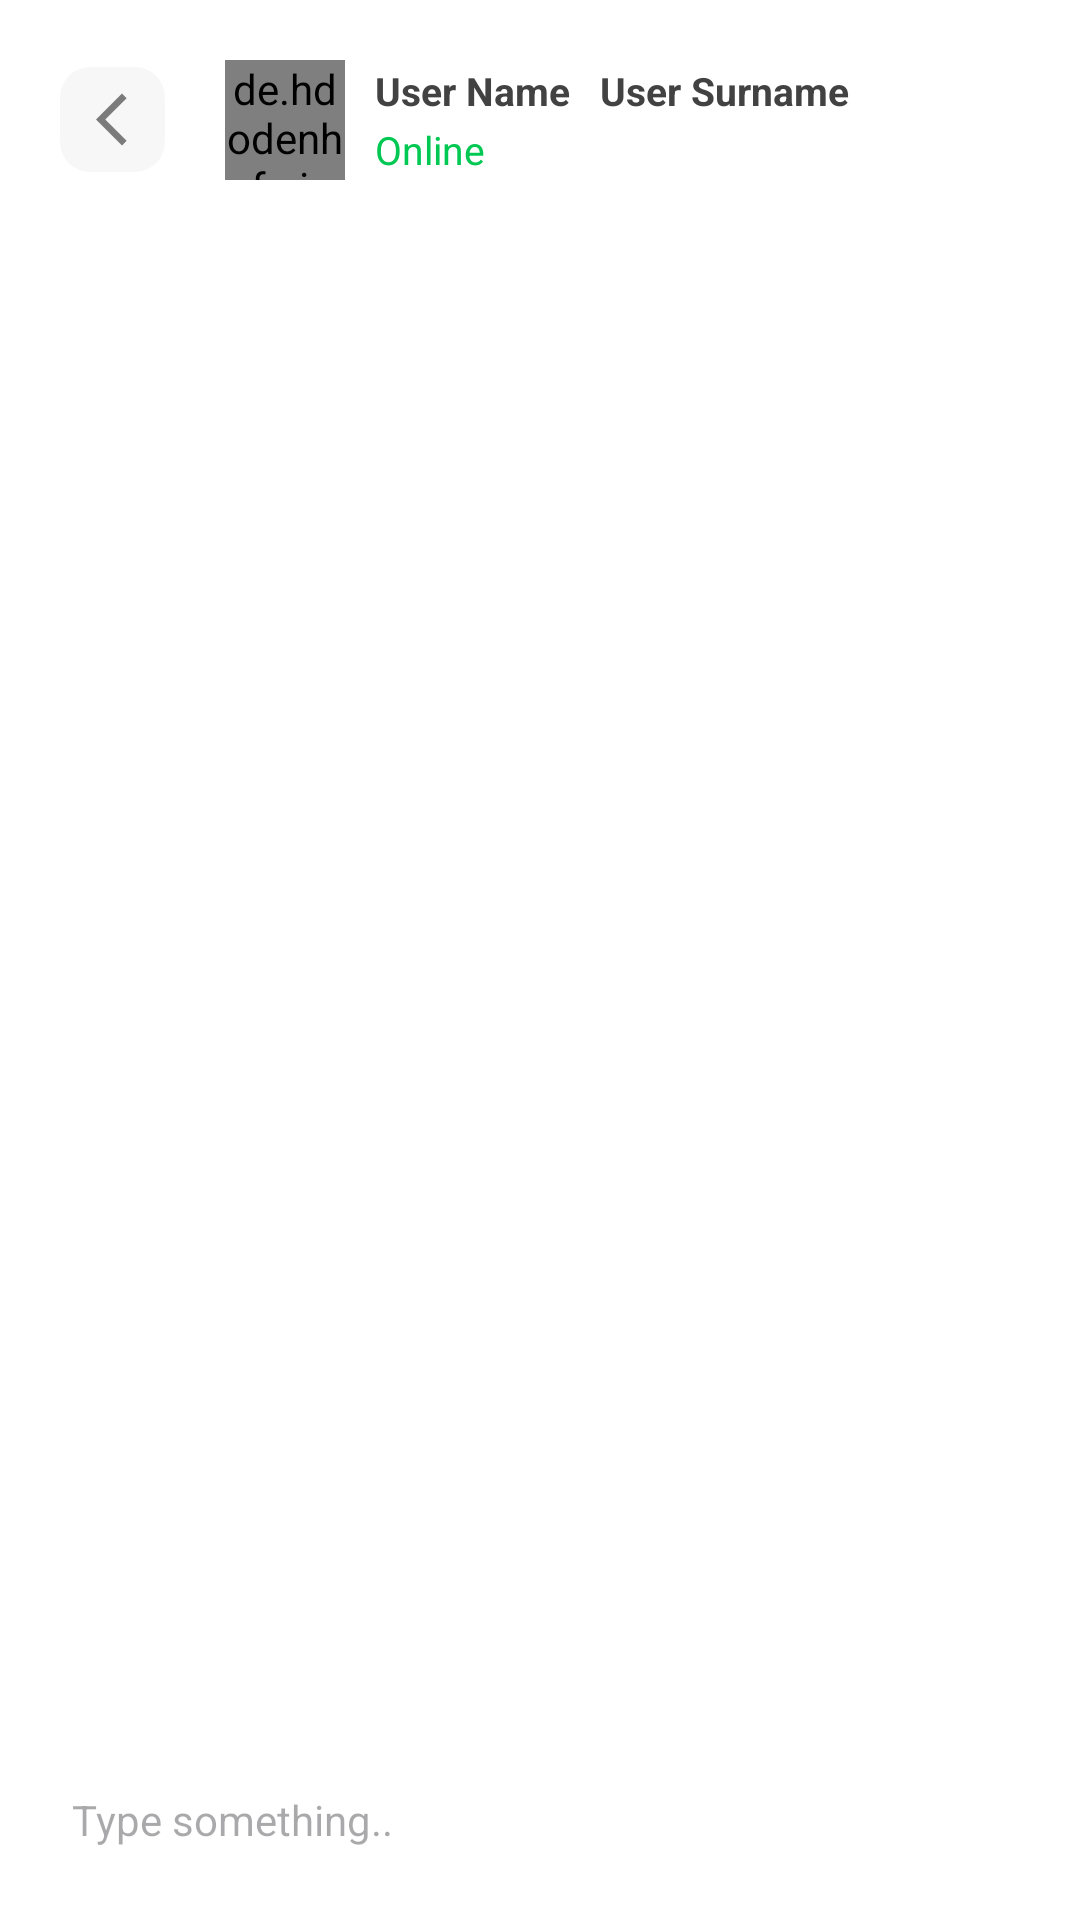

Where to tap for icons on this 1080*1920 app screen, as (x=x, y=y):
back: (x=111, y=120)
